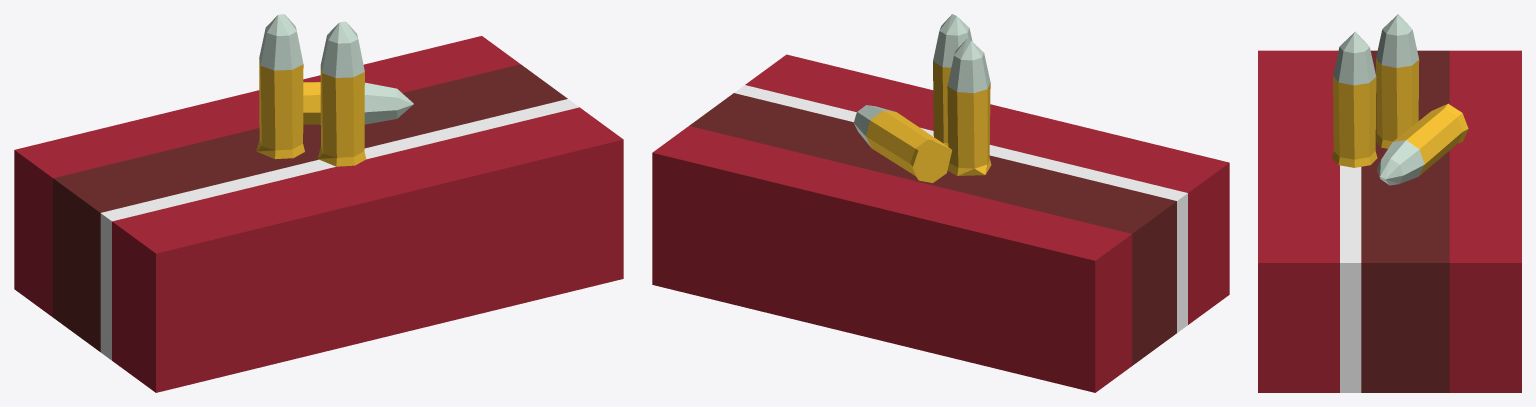
File: 9mm_Pistol_MP5_Ammo.fbx
3 renders of one model, left to right at view 1: azimuth 30°, elevation 25°; view 2: azimuth 150°, elevation 25°; view 3: azimuth 270°, elevation 25°, orthographic. The views are drawn at different scales.
Parts seen in each view (by area): view 1: 9mm_Pistol_MP5_Ammo; view 2: 9mm_Pistol_MP5_Ammo; view 3: 9mm_Pistol_MP5_Ammo.
Boxes of the visible parts, box(x1,y1,x2,y2) form: 9mm_Pistol_MP5_Ammo: box(14, 14, 623, 392); 9mm_Pistol_MP5_Ammo: box(652, 14, 1229, 392); 9mm_Pistol_MP5_Ammo: box(1258, 14, 1521, 392).
Size of the model in its own units: 12.16 by 6.83 by 6.38.
